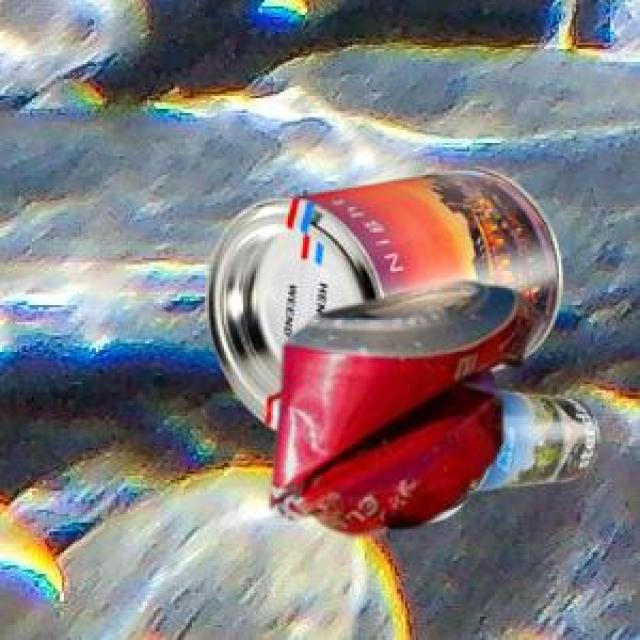logam: (204, 165, 558, 428), (268, 281, 532, 532), (423, 387, 596, 519)
